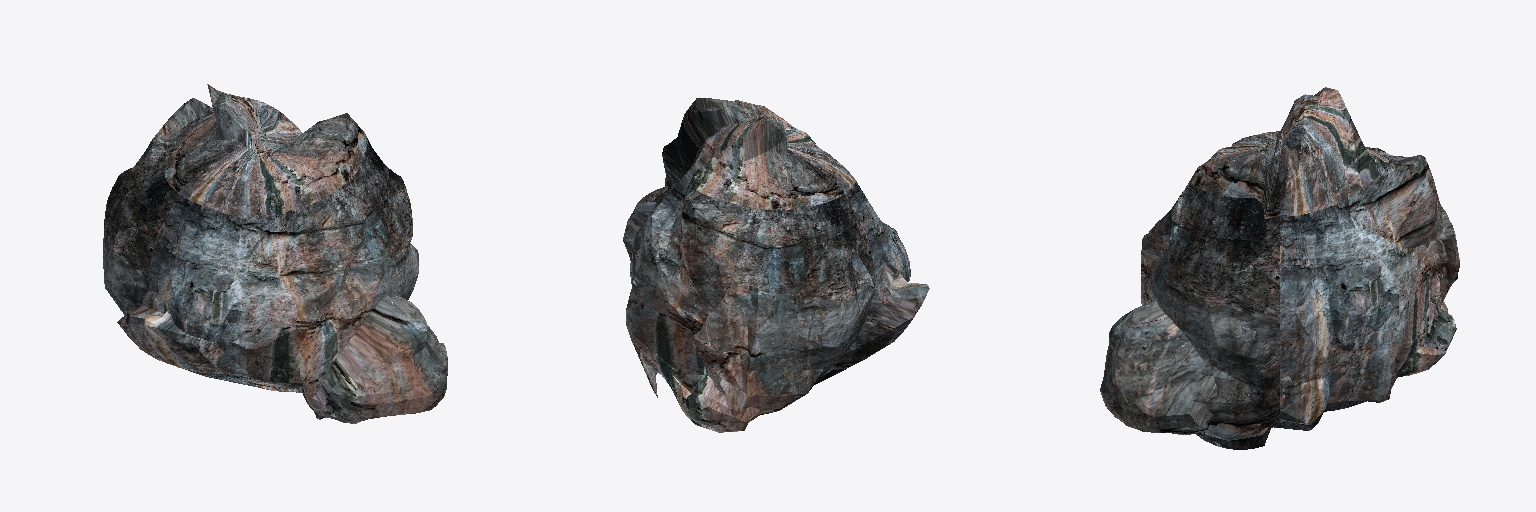
The picture shows the model from 3 angles: view 1: azimuth 30°, elevation 25°; view 2: azimuth 150°, elevation 25°; view 3: azimuth 270°, elevation 25°; orthographic projection.
Parts seen in each view (by area): view 1: roca1:pSphere5; view 2: roca1:pSphere5; view 3: roca1:pSphere5.
Part boxes in pixels (bbox=[...]): roca1:pSphere5: bbox=[103, 84, 447, 423]; roca1:pSphere5: bbox=[623, 98, 929, 432]; roca1:pSphere5: bbox=[1100, 87, 1459, 449].
Bounding box in the file's own units: 0.956 × 1.01 × 1.04.
Materials: 1 (1 with a texture image).